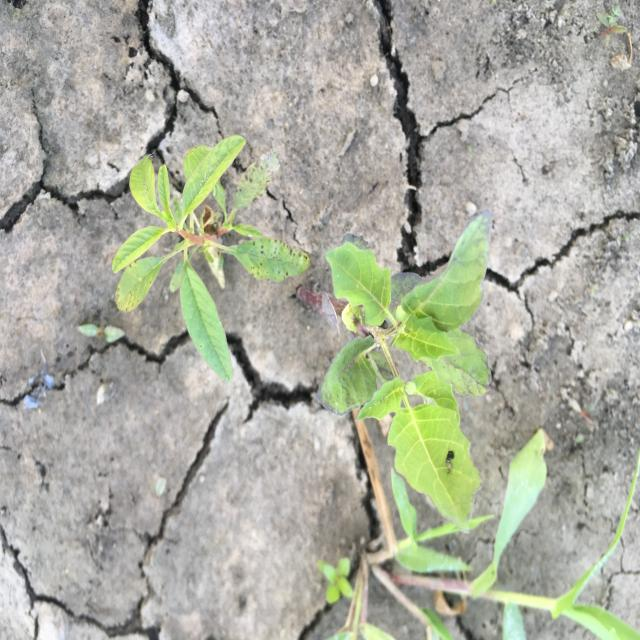CutleafGroundcherry: (313, 210, 494, 536)
Waterhemp: (111, 133, 311, 384)
